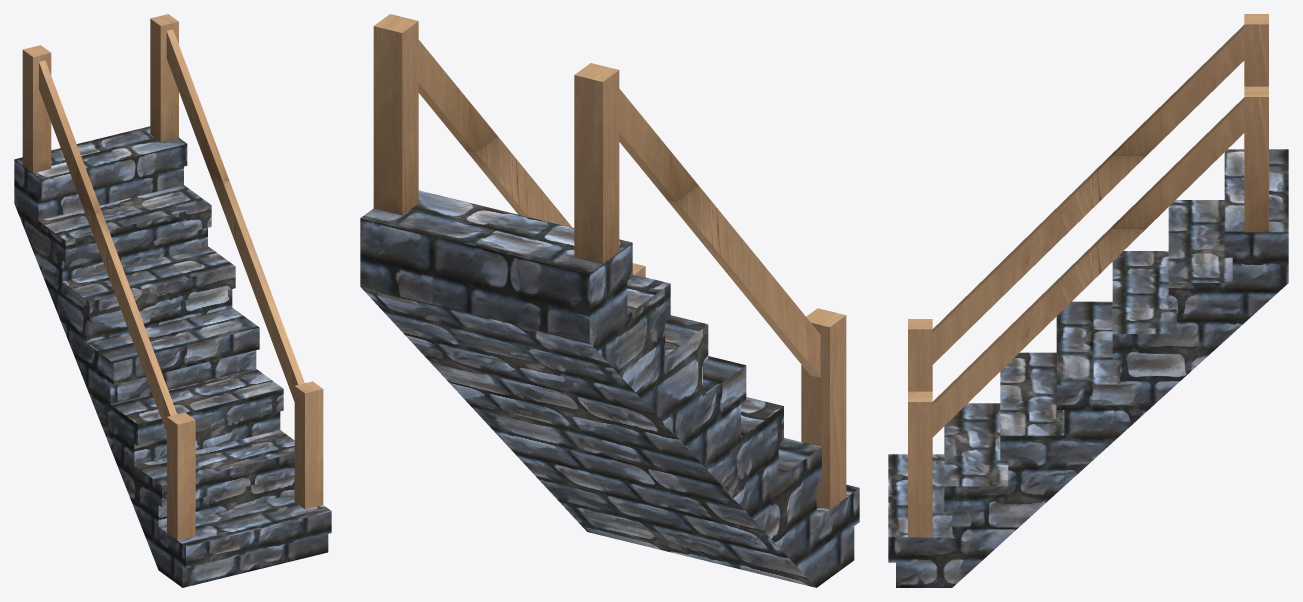
Rendered from stairs.fbx.
3 views of the same model, side by side, from view 1: azimuth 30°, elevation 25°; view 2: azimuth 150°, elevation 25°; view 3: azimuth 270°, elevation 25° (orthographic). The views are drawn at different scales.
Visible parts, largest first — view 1: stairs_stone_railing_22; view 2: stairs_stone_railing_22; view 3: stairs_stone_railing_22.
Boxes of the visible parts, box(x1,y1,x2,y2) form: stairs_stone_railing_22: box(14, 14, 331, 587); stairs_stone_railing_22: box(360, 14, 859, 587); stairs_stone_railing_22: box(888, 14, 1288, 587).
Size of the model in its own units: 5 by 13.8 by 10.2.
2 materials, 2 textured.
